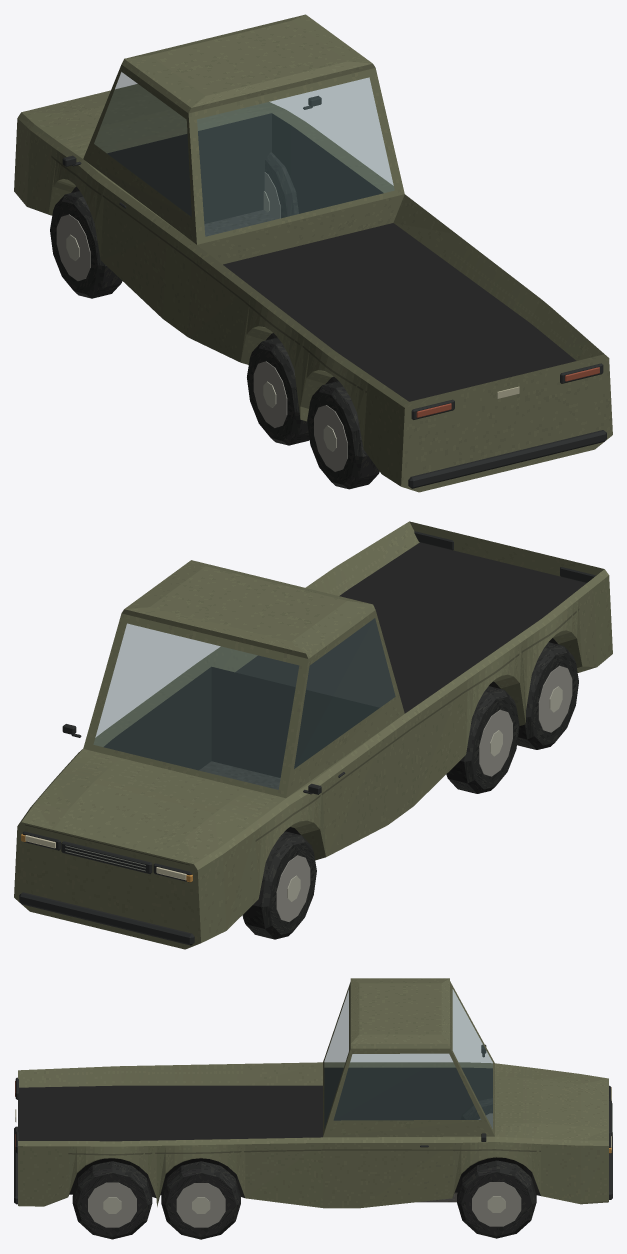
File: vehicle_truck.glb
3 renders of one model, top to bottom at view 1: azimuth 30°, elevation 25°; view 2: azimuth 150°, elevation 25°; view 3: azimuth 270°, elevation 25°, orthographic. The views are drawn at different scales.
Visible parts, largest first — view 1: closed_body, glazing, roof_body; view 2: closed_body, glazing, roof_body; view 3: closed_body, glazing, roof_body.
Boxes of the visible parts, x1,y1,x2,y2 form: closed_body: (14, 64, 612, 492); glazing: (94, 72, 394, 236); roof_body: (121, 14, 375, 113); closed_body: (14, 521, 612, 949); glazing: (93, 618, 395, 789); roof_body: (122, 560, 375, 658); closed_body: (14, 981, 612, 1239); glazing: (324, 989, 492, 1128); roof_body: (350, 978, 449, 1048).
Size of the model in its own units: 2.64 by 2.55 by 7.21.
2 materials, 2 textured.
